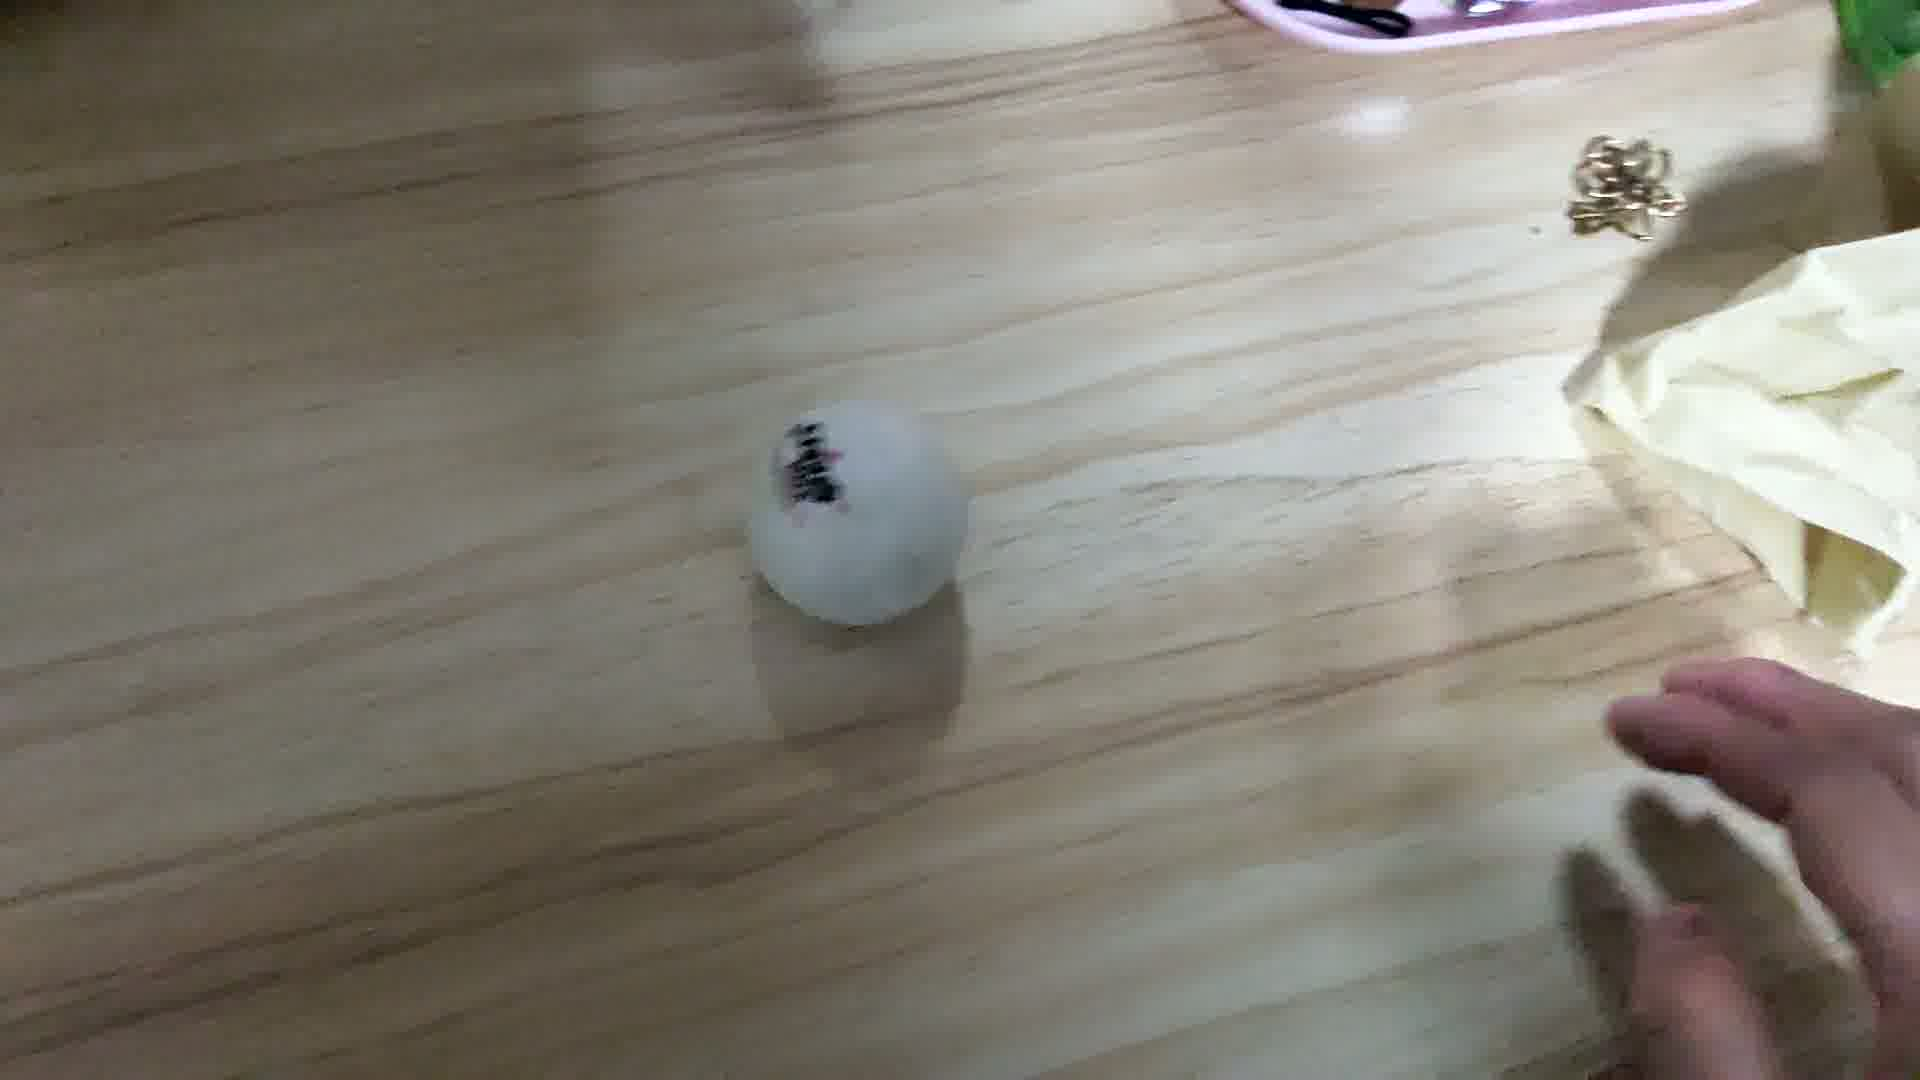Ball: (746, 406, 977, 632)
